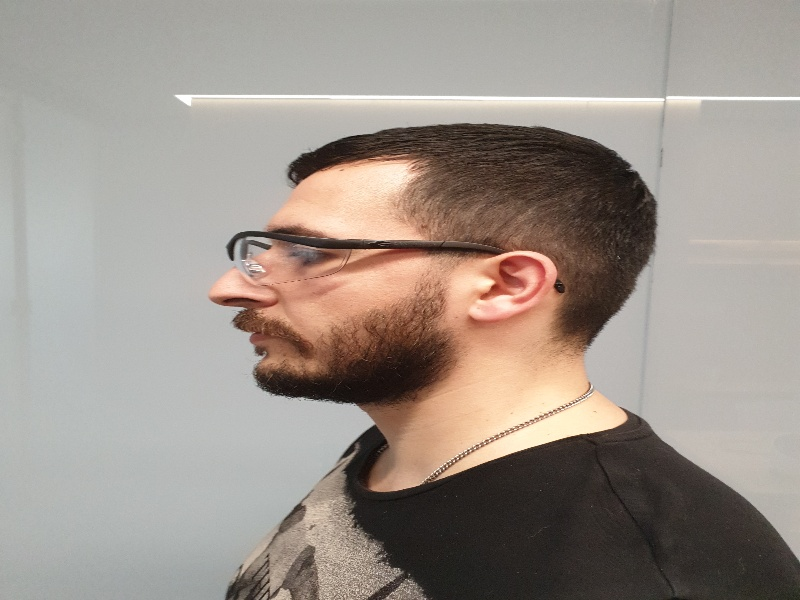Gozluk: (228, 229, 505, 282)
